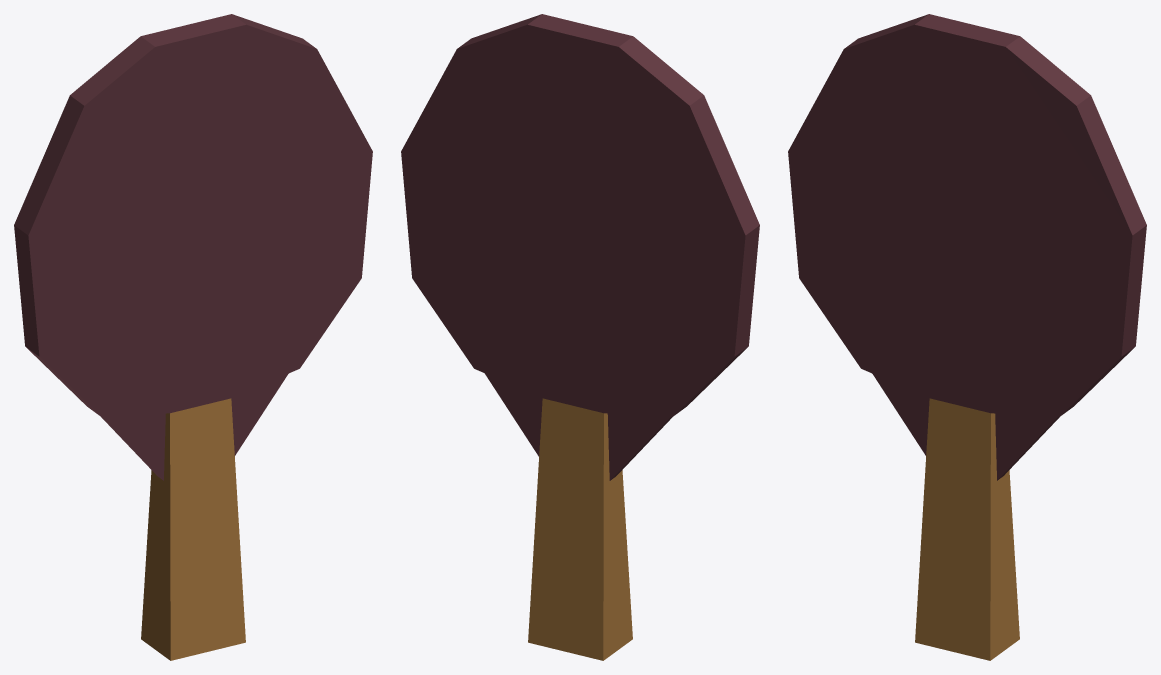
Rendered from sport-table-tennis-bat.glb.
3 views of the same model, side by side, from view 1: azimuth 30°, elevation 25°; view 2: azimuth 150°, elevation 25°; view 3: azimuth 330°, elevation 25° (orthographic).
Parts seen in each view (by area): view 1: table-tennis-bat; view 2: table-tennis-bat; view 3: table-tennis-bat.
Boxes of the visible parts, x1,y1,x2,y2 form: table-tennis-bat: (14,14,372,660); table-tennis-bat: (401,14,759,660); table-tennis-bat: (788,14,1146,660).
Bounding box in the file's own units: 0.1477 × 0.25 × 0.022.
